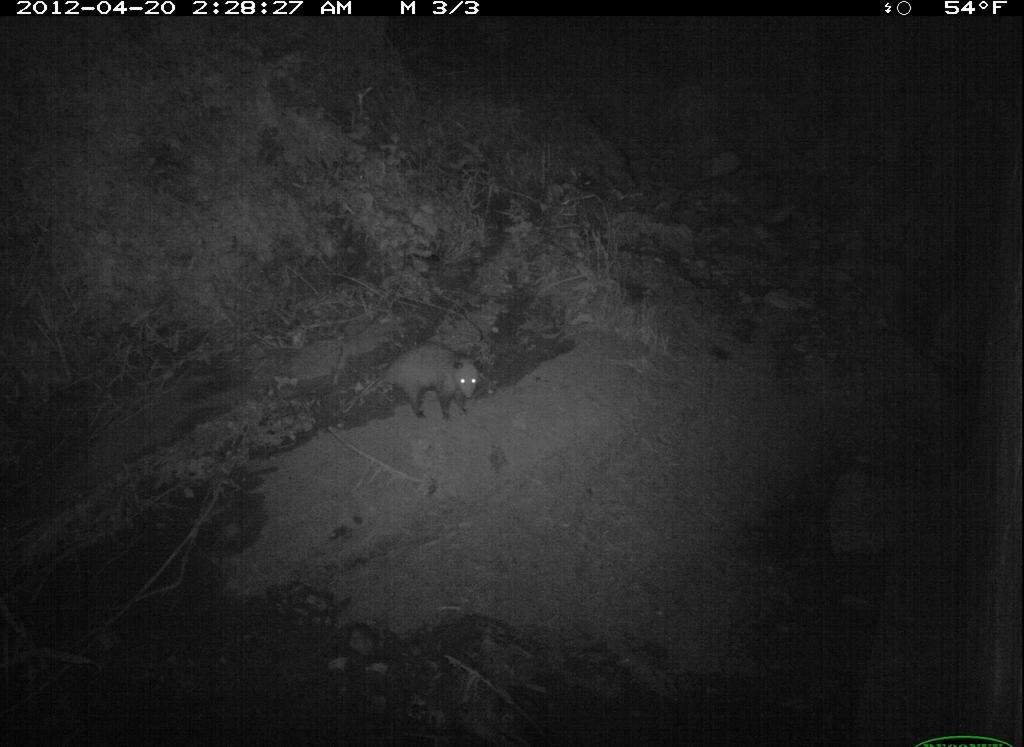opossum: (327, 340, 487, 438)
